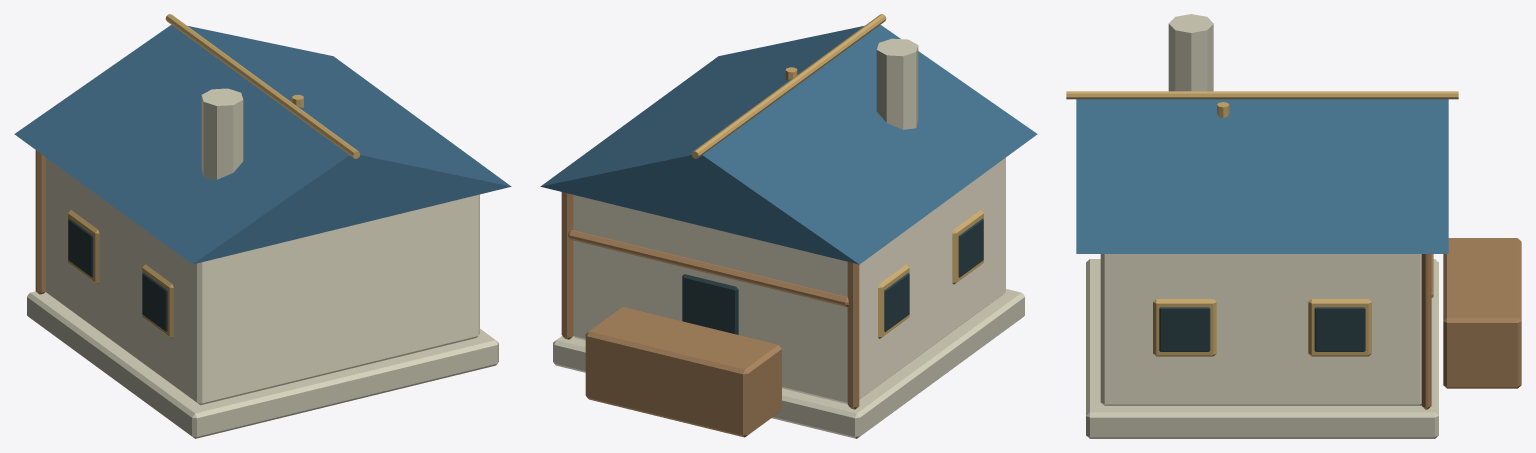
Rendered from level_04.glb.
3 renders of one model, left to right at view 1: azimuth 30°, elevation 25°; view 2: azimuth 150°, elevation 25°; view 3: azimuth 270°, elevation 25°, orthographic. The views are drawn at different scales.
Visible parts, largest first — view 1: workshop — level 04; view 2: workshop — level 04; view 3: workshop — level 04.
Boxes of the visible parts, x1=… form: workshop — level 04: x1=14, y1=14, x2=511, y2=438; workshop — level 04: x1=540, y1=14, x2=1037, y2=438; workshop — level 04: x1=1066, y1=14, x2=1521, y2=438.
Bounding box in the file's own units: 3.93 × 3.38 × 4.64.
